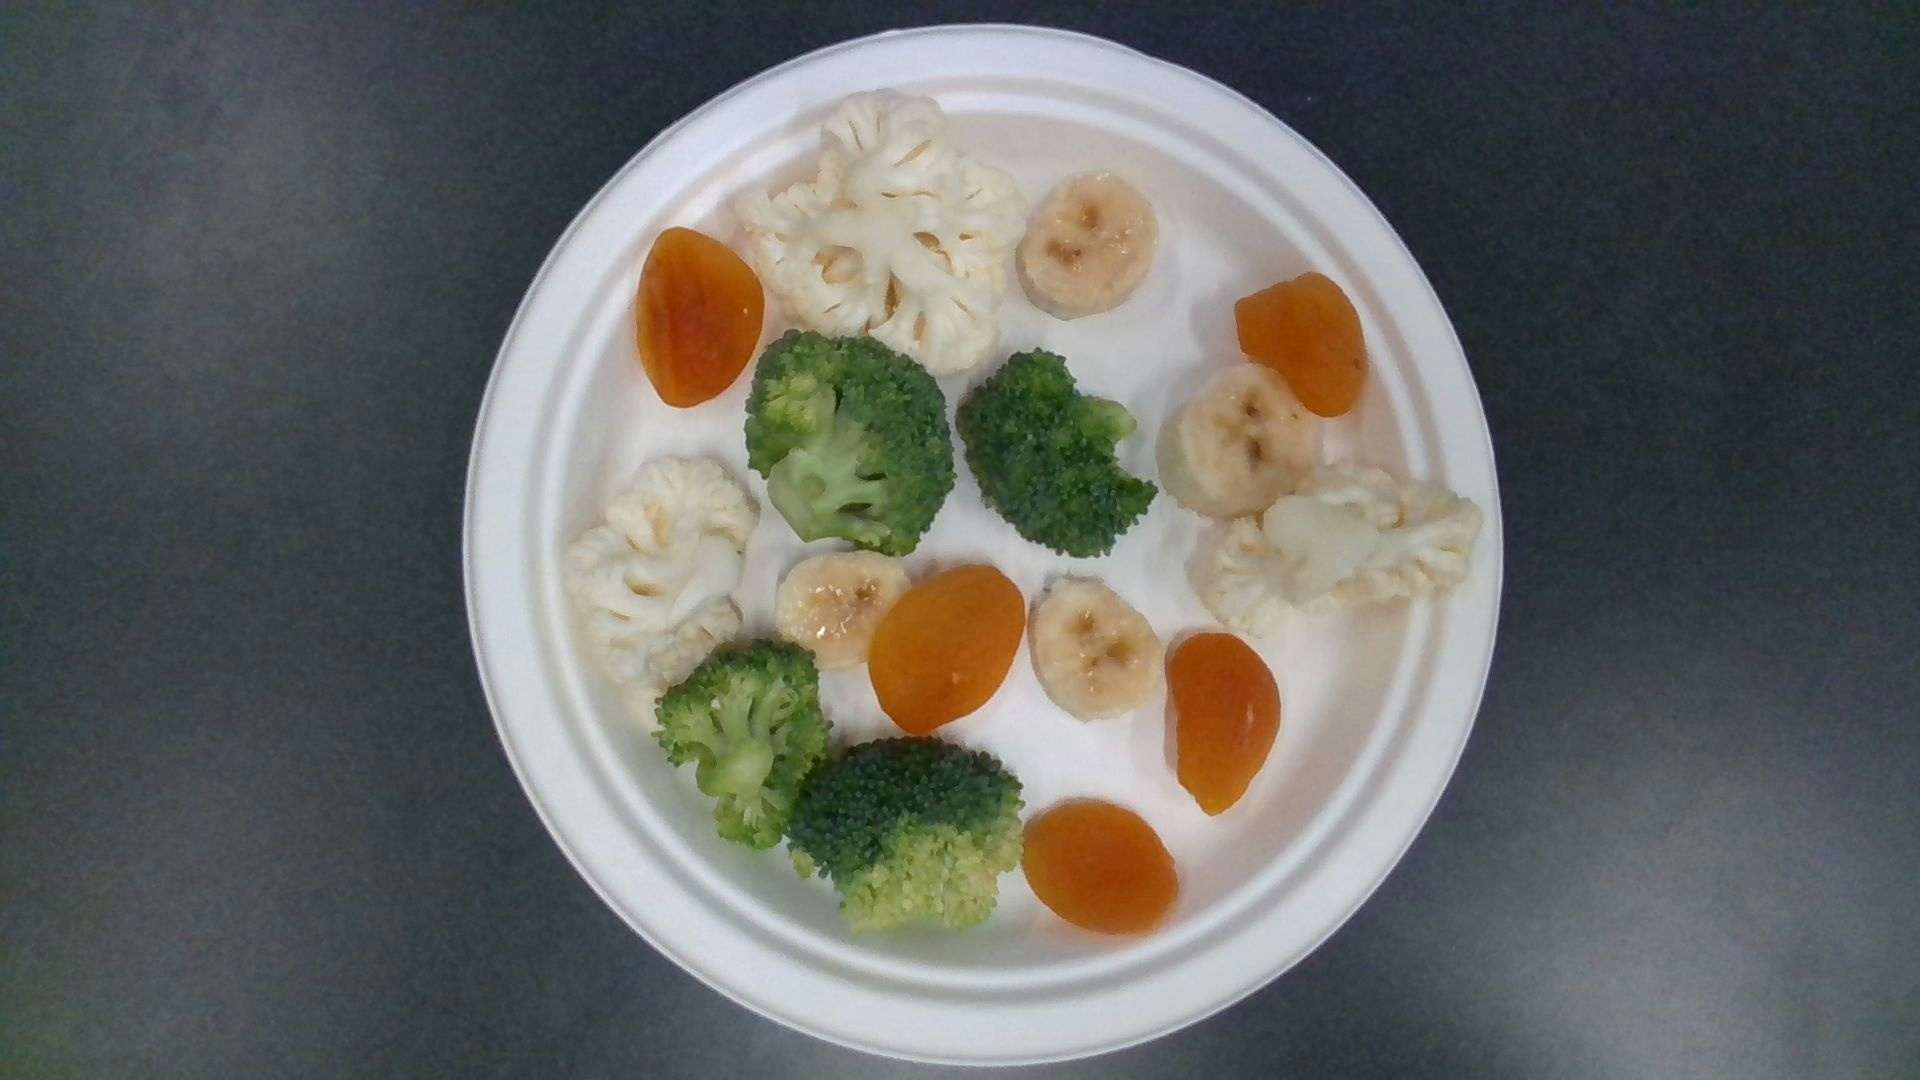apricot: (869, 564, 1025, 731), (636, 231, 762, 406), (1022, 800, 1180, 934), (1168, 636, 1280, 808), (1236, 273, 1369, 415)
banana: (1159, 367, 1313, 508), (1019, 175, 1156, 318), (1033, 582, 1160, 721), (774, 553, 915, 665)
broccoli: (745, 334, 957, 558), (789, 740, 1022, 923), (957, 353, 1160, 558), (659, 645, 827, 851)
cauliflower: (732, 90, 1021, 367), (1187, 468, 1484, 632), (564, 456, 757, 673)
